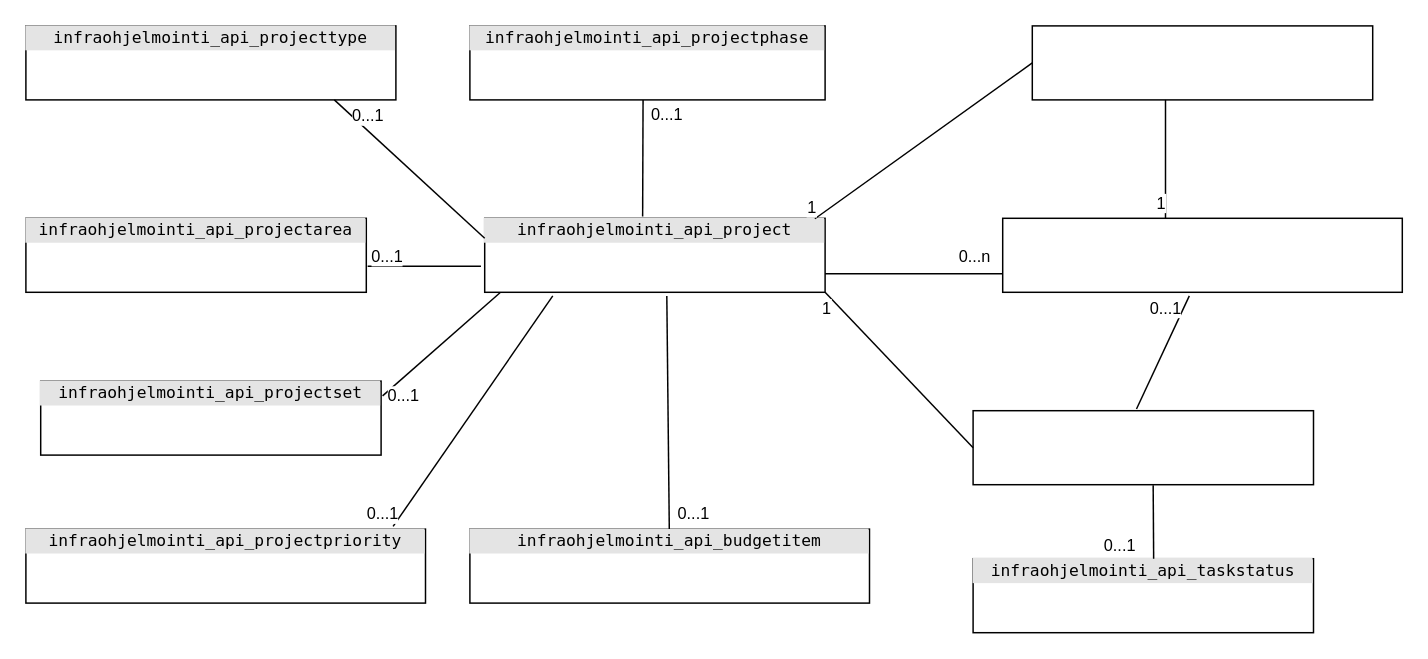
Image size: 1428x659. Some labels were removed from this diagram. The box of each missing label's shape, as (x1, y1, x2, y2) in pixels:
infraohjelmointi_api_note: (1031, 24, 1373, 100)
infraohjelmointi_api_person: (1001, 217, 1402, 292)
infraohjelmointi_api_task: (972, 409, 1314, 485)
